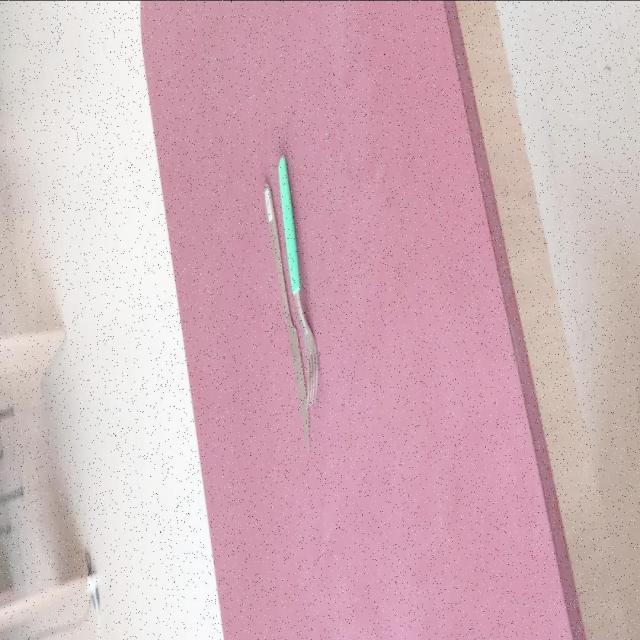Fork: (276, 155, 319, 409)
Knife: (260, 182, 311, 454)
